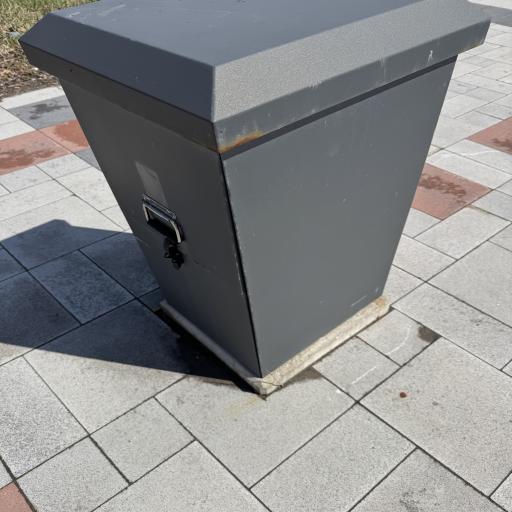Electrical Box: (20, 0, 492, 378)
